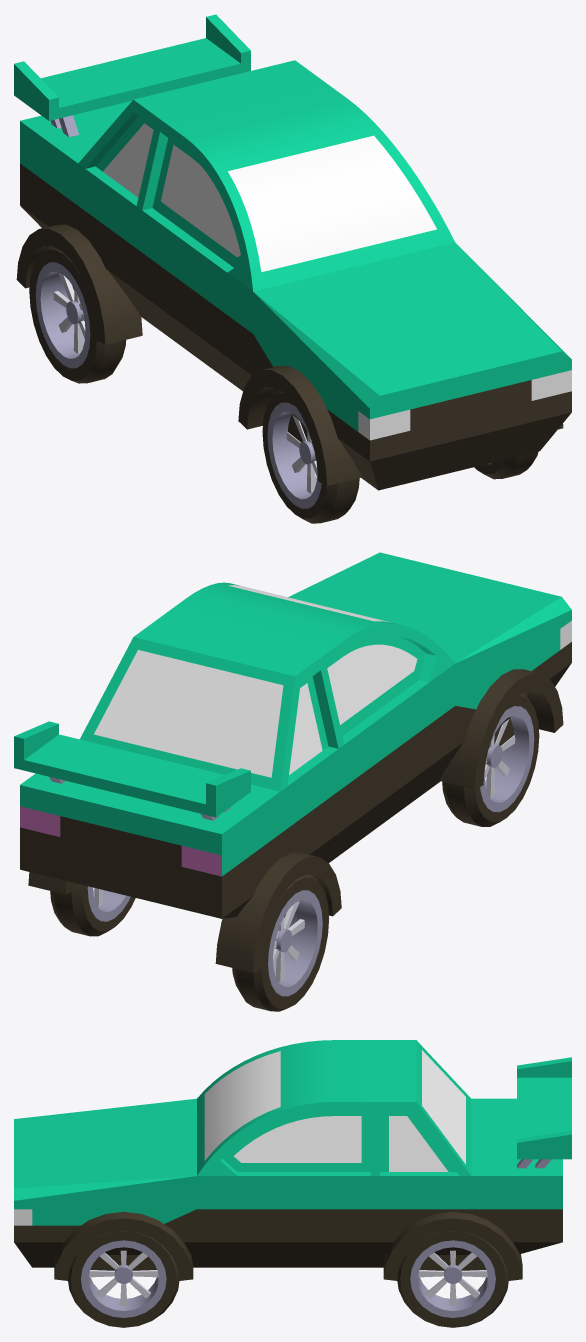
The model's file is car_green.fbx.
3 views of the same model, one above another, from view 1: azimuth 30°, elevation 25°; view 2: azimuth 150°, elevation 25°; view 3: azimuth 270°, elevation 25° (orthographic). The views are drawn at different scales.
Visible parts, largest first — view 1: mergedBlocks; view 2: mergedBlocks; view 3: mergedBlocks.
Boxes of the visible parts, x1,y1,x2,y2 form: mergedBlocks: (14,14,571,523); mergedBlocks: (14,552,571,1011); mergedBlocks: (14,1040,571,1327).
Size of the model in its own units: 11.7 by 14.08 by 30.5.
1 material, 1 textured.
